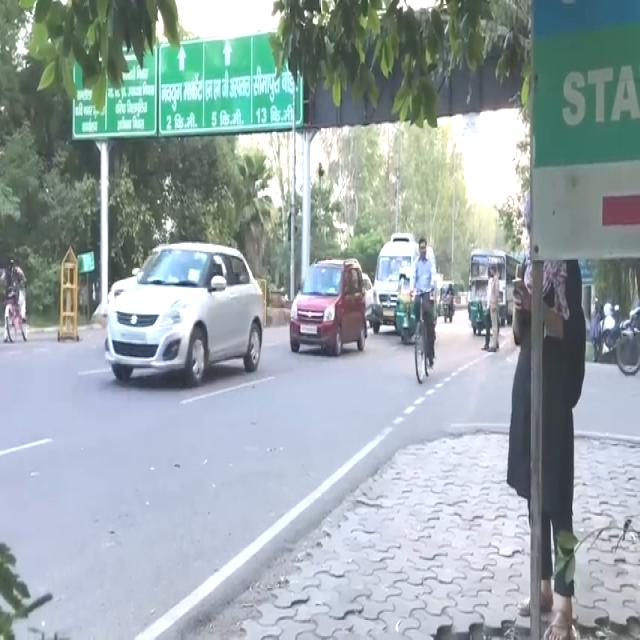BUS: (468, 241, 509, 332), (377, 237, 418, 321)
SED: (108, 238, 265, 385), (290, 254, 368, 358)
